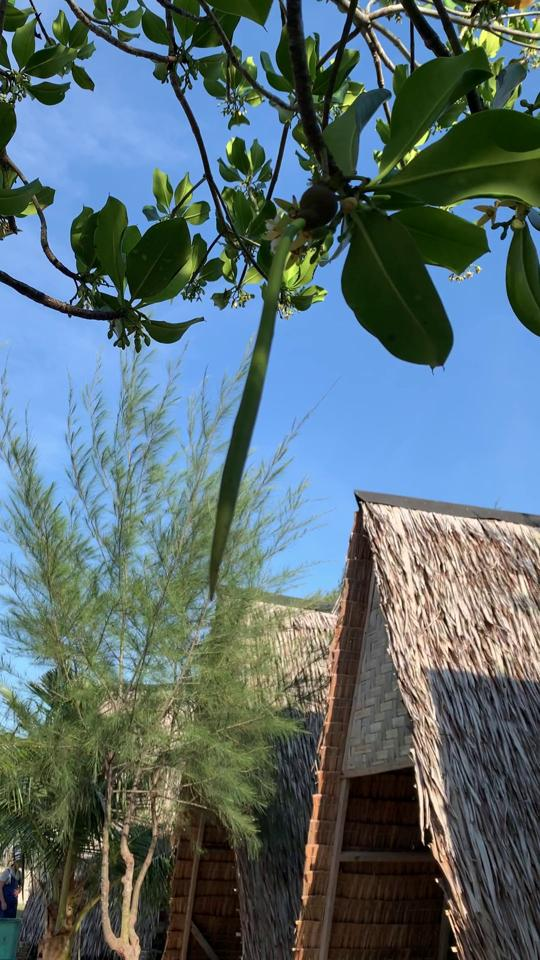mentah: (190, 167, 354, 606)
